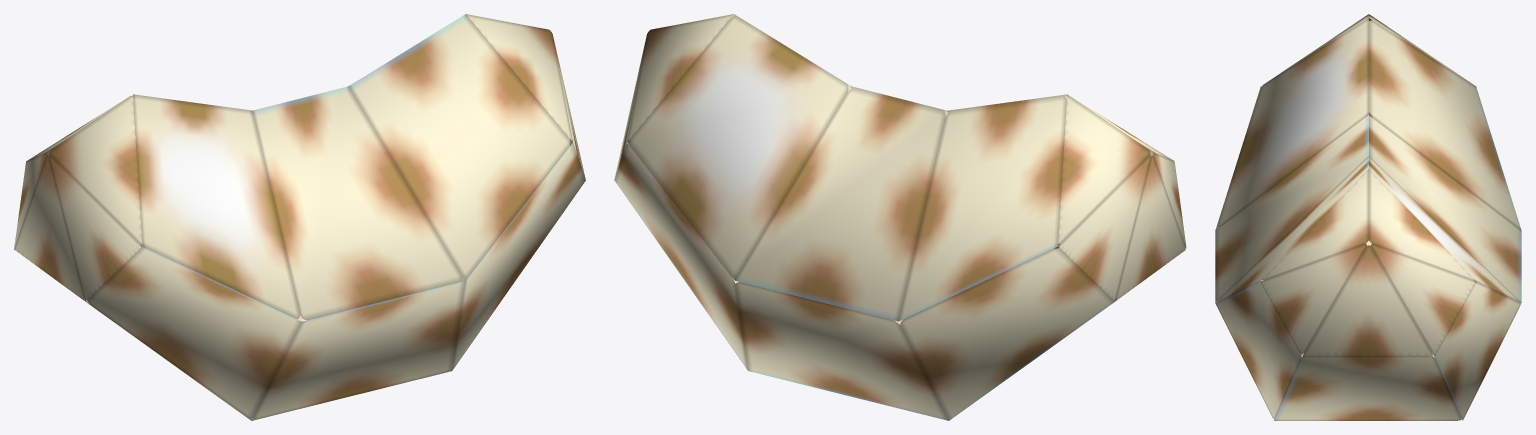
3 views of the same model, side by side, from view 1: azimuth 30°, elevation 25°; view 2: azimuth 150°, elevation 25°; view 3: azimuth 270°, elevation 25° (orthographic). The views are drawn at different scales.
Visible parts, largest first — view 1: T1L2M007_40; view 2: T1L2M007_40; view 3: T1L2M007_40.
Boxes of the visible parts, box(x1,y1,x2,y2) form: T1L2M007_40: box(14, 14, 585, 420); T1L2M007_40: box(614, 14, 1186, 420); T1L2M007_40: box(1215, 14, 1521, 420).
Bounding box in the file's own units: 0.5547 × 0.3213 × 0.3154.
Materials: 1 (1 with a texture image).
